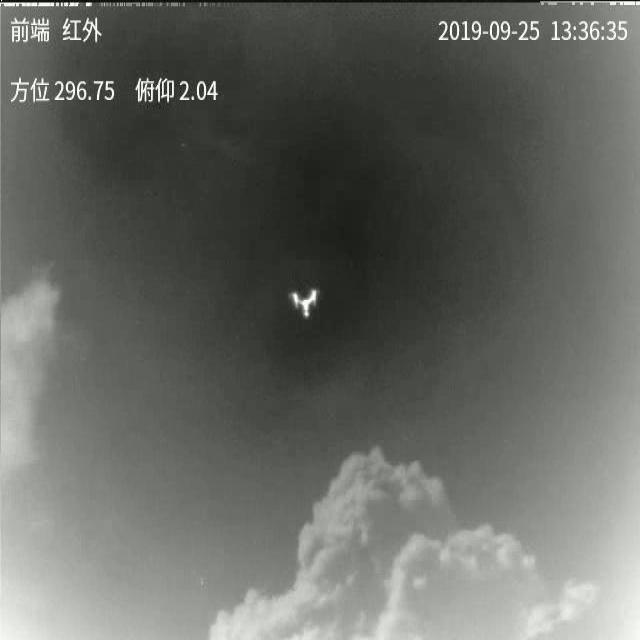drone: (292, 290, 324, 320)
